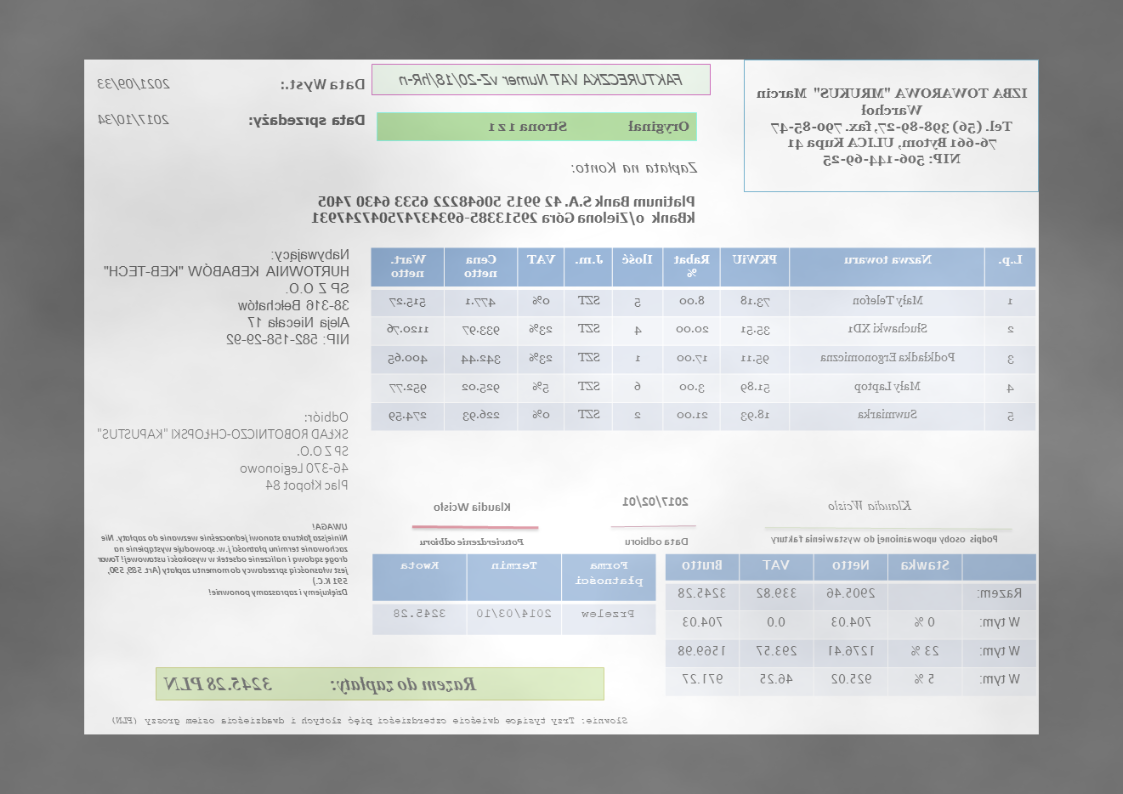Table: (370, 246, 1037, 433), (666, 553, 1038, 698), (371, 552, 658, 637)
TextBox: (100, 246, 351, 348), (756, 83, 1030, 170), (94, 409, 350, 495), (94, 519, 351, 600), (310, 193, 699, 226), (162, 673, 479, 697), (109, 714, 631, 727), (395, 70, 686, 89), (486, 116, 692, 136), (768, 532, 1000, 547), (569, 157, 700, 178), (246, 110, 369, 131), (278, 75, 366, 94), (96, 74, 173, 94), (826, 496, 915, 513), (417, 535, 526, 548), (96, 110, 172, 128), (620, 493, 692, 510), (433, 500, 514, 514), (625, 535, 691, 547)
